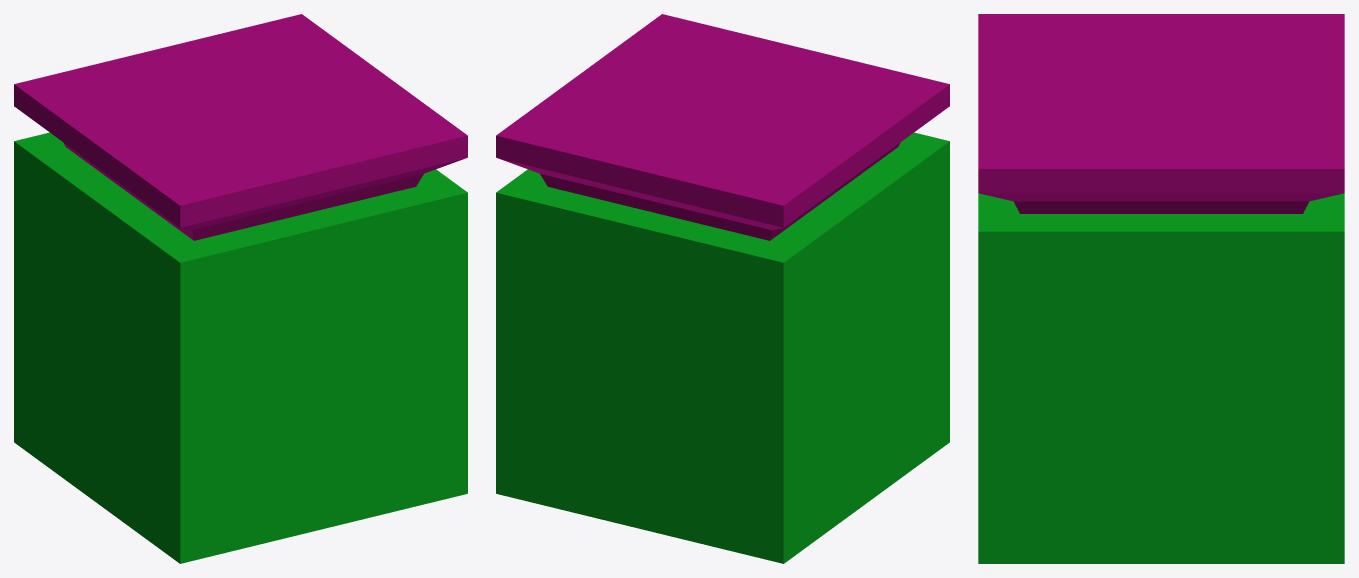
The model's file is AnimatedBox_000196.obj.
3 renders of one model, left to right at view 1: azimuth 30°, elevation 25°; view 2: azimuth 150°, elevation 25°; view 3: azimuth 270°, elevation 25°, orthographic. The views are drawn at different scales.
Visible parts, largest first — view 1: Cube, Cube.001; view 2: Cube, Cube.001; view 3: Cube, Cube.001.
Boxes of the visible parts, left/top/right/bottom form: Cube: left=14, top=132, right=467, bottom=563; Cube.001: left=14, top=14, right=467, bottom=240; Cube: left=496, top=132, right=949, bottom=563; Cube.001: left=496, top=14, right=949, bottom=240; Cube: left=978, top=193, right=1344, bottom=563; Cube.001: left=978, top=14, right=1344, bottom=213.
Size of the model in its own units: 2 by 2.38 by 2.
